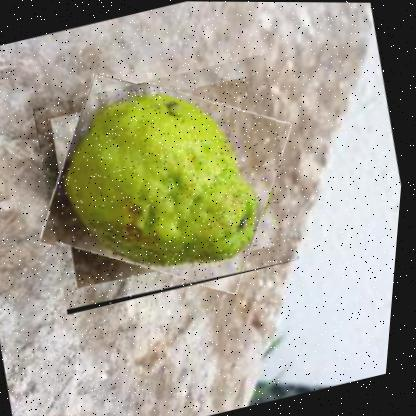guava: (19, 50, 316, 315)
